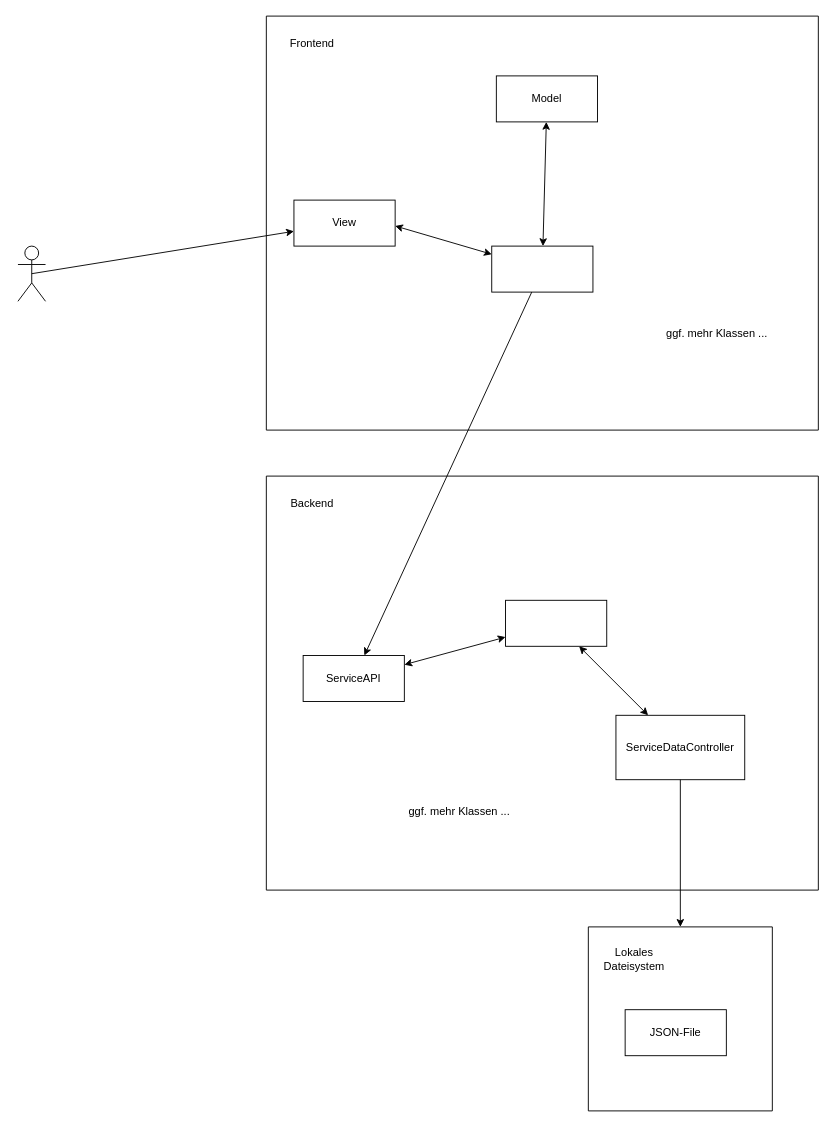
Some shapes in this 834 by 1127 pixel diagram are drawn without their labels. The centre of each missing label's shape, as x and y in pixels:
"Controller" belongs at pixel 542 268.
"Justus" belongs at pixel 31 273.
"Service" belongs at pixel 556 622.
